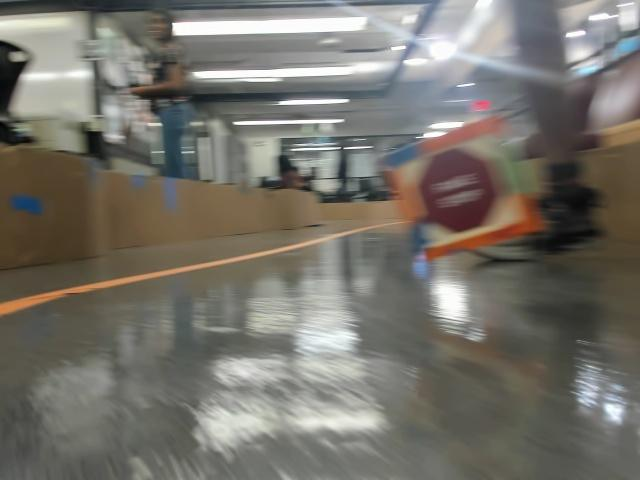Fake Stop: (410, 159, 482, 241)
